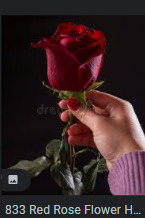RedRose: (15, 20, 112, 100)
